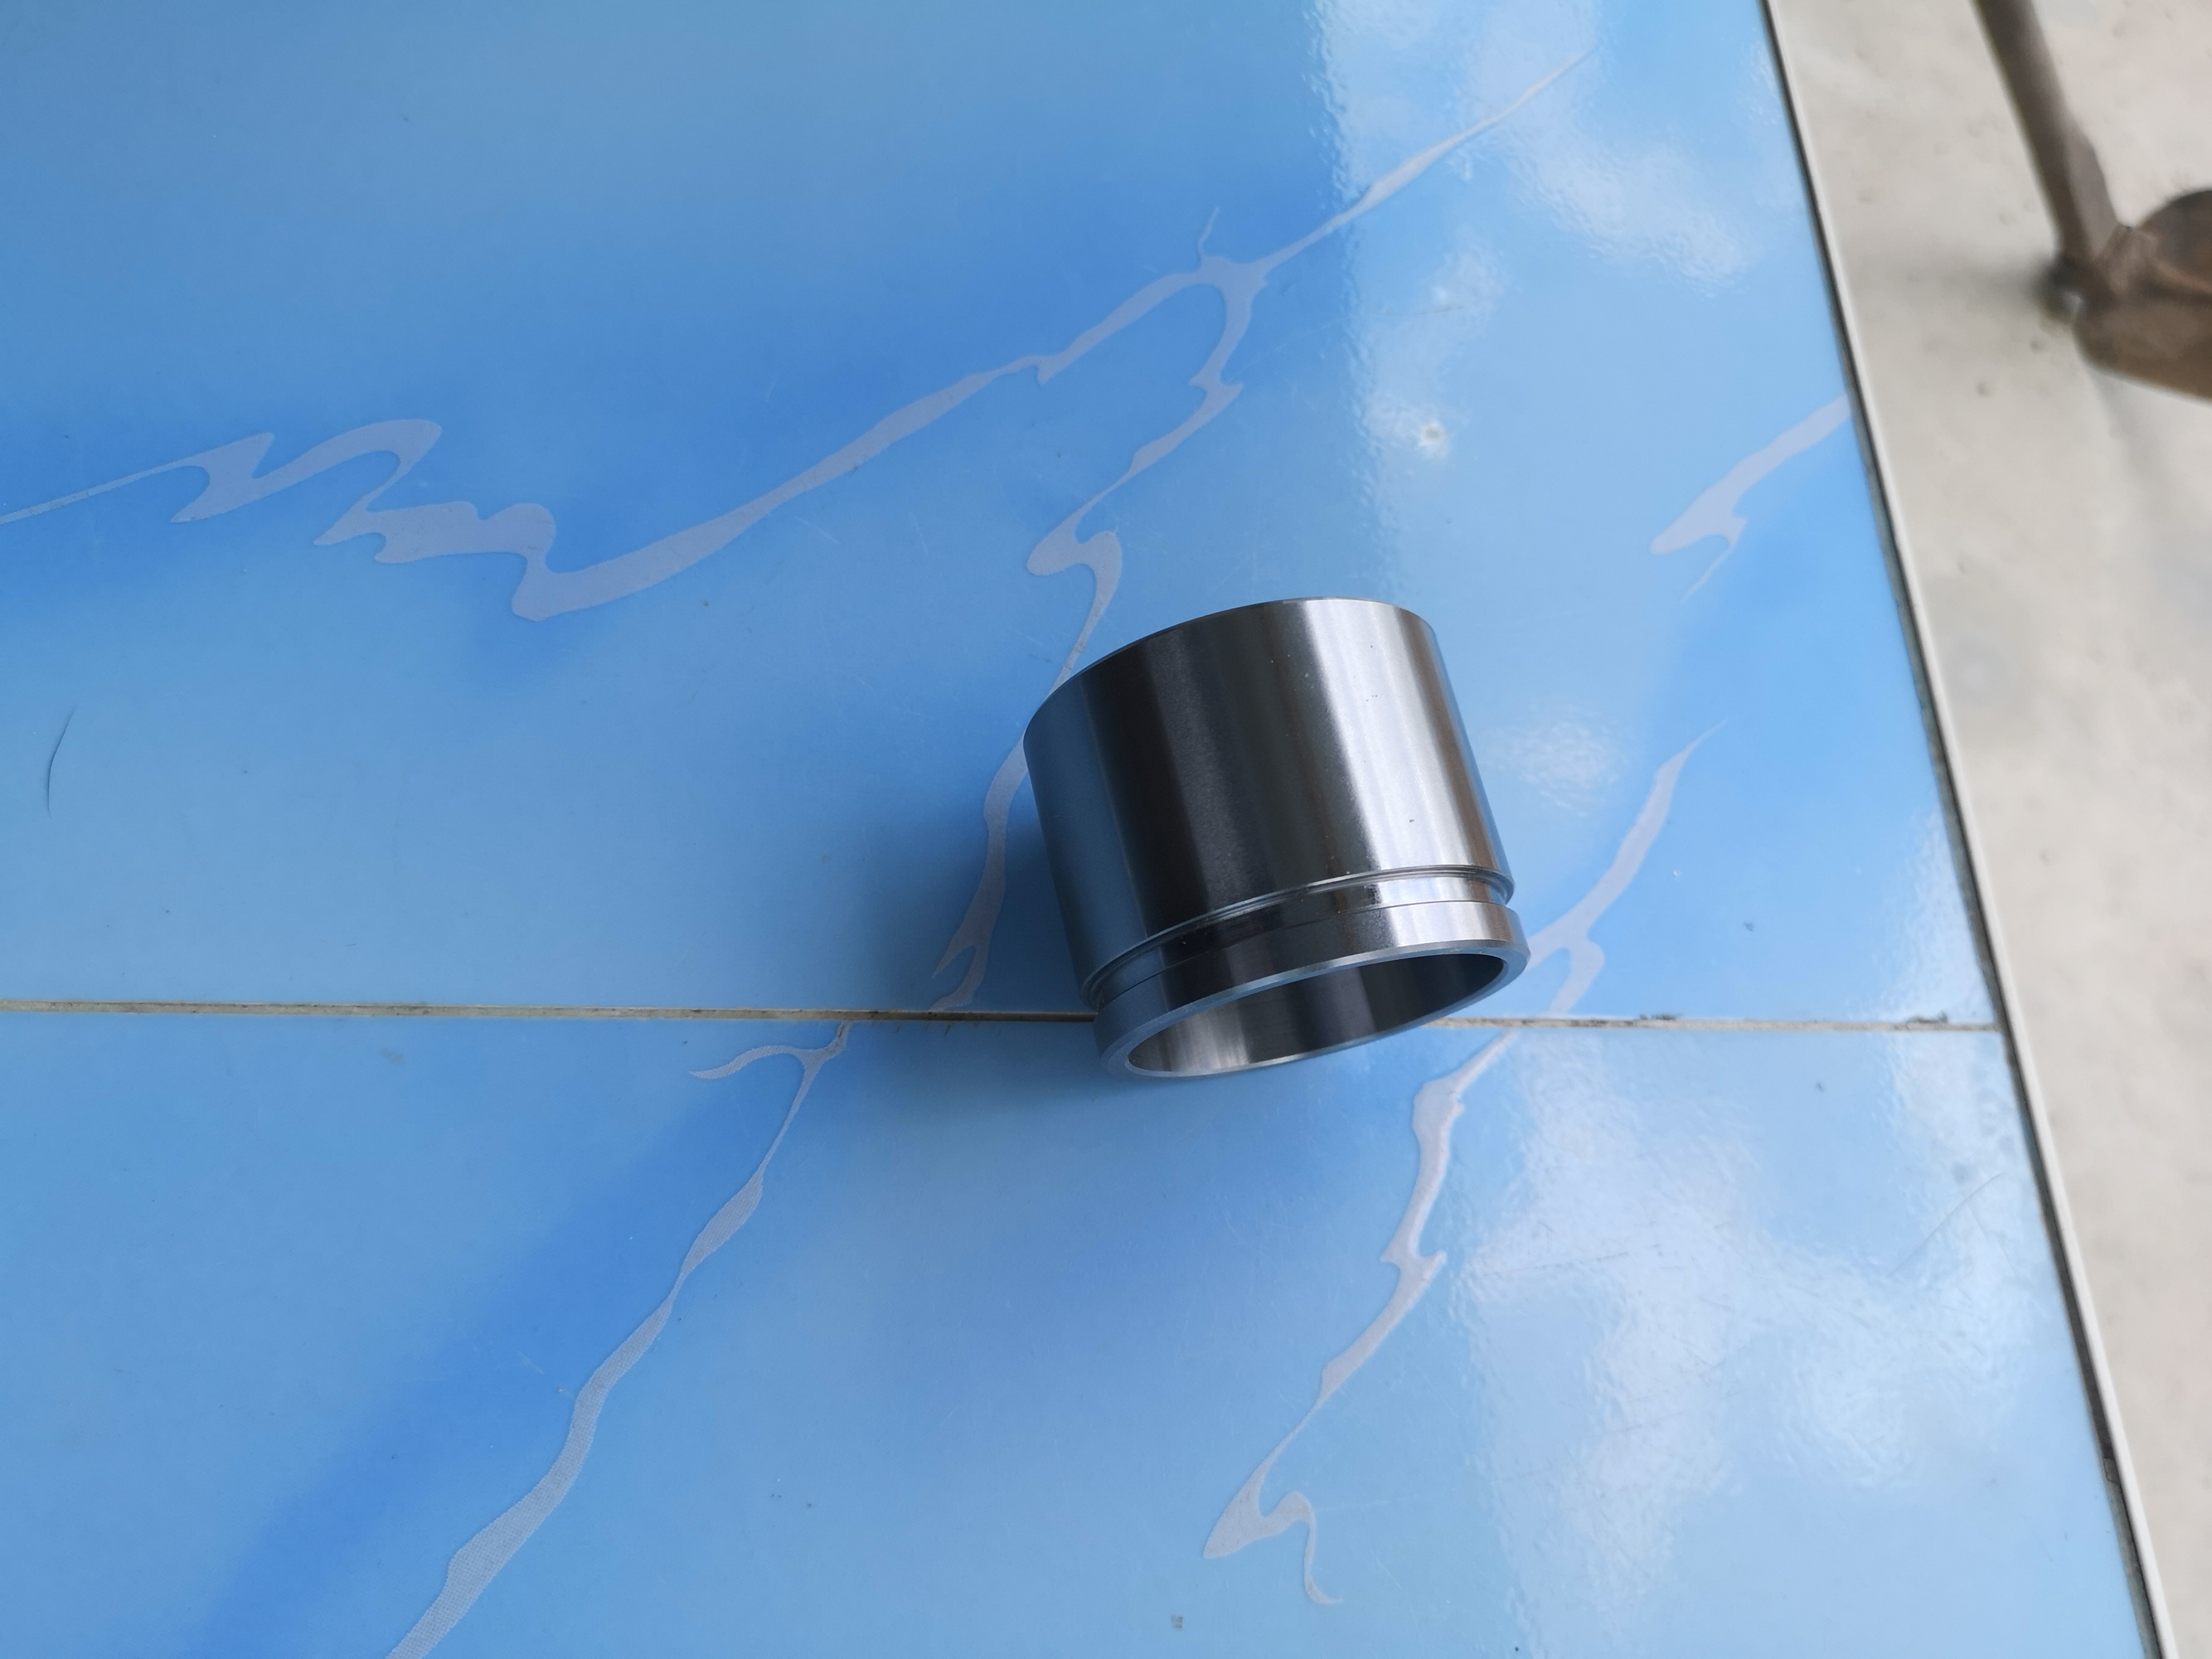ลูกสูบดิสเบรค: (974, 556, 1592, 1173)
